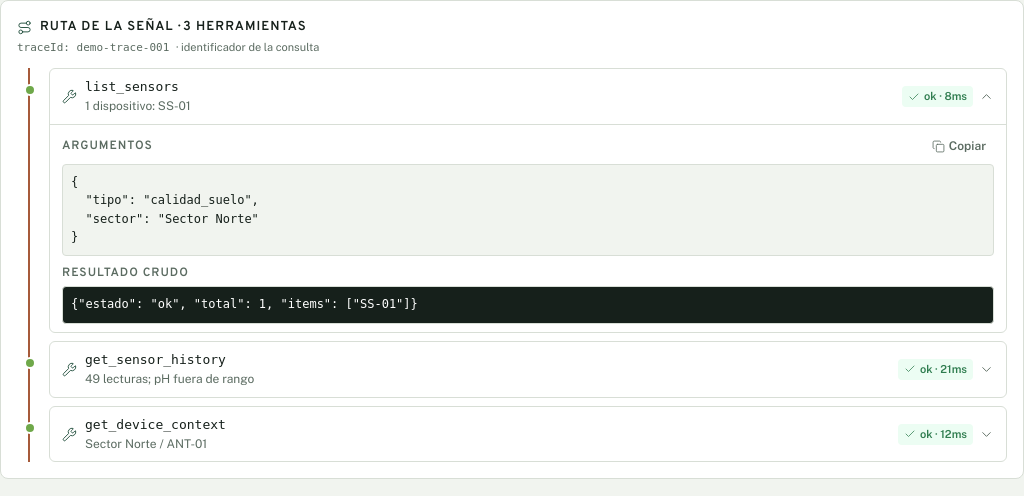
Test case: SignalPath › lista las 3 trazas sin mezclar turnos y expande el crudo
Check: the text "Ruta de la señal · 3 herramientas" is shown, box top-left (17, 19), bottom-right (307, 35)
Check: the text "list_sensors" is shown, box top-left (85, 79), bottom-right (179, 94)
Click the button "list_sensors 1 dispositivo: SS-01 ok · 8ms".
click(132, 87)  # box top-left (50, 69), bottom-right (1006, 124)
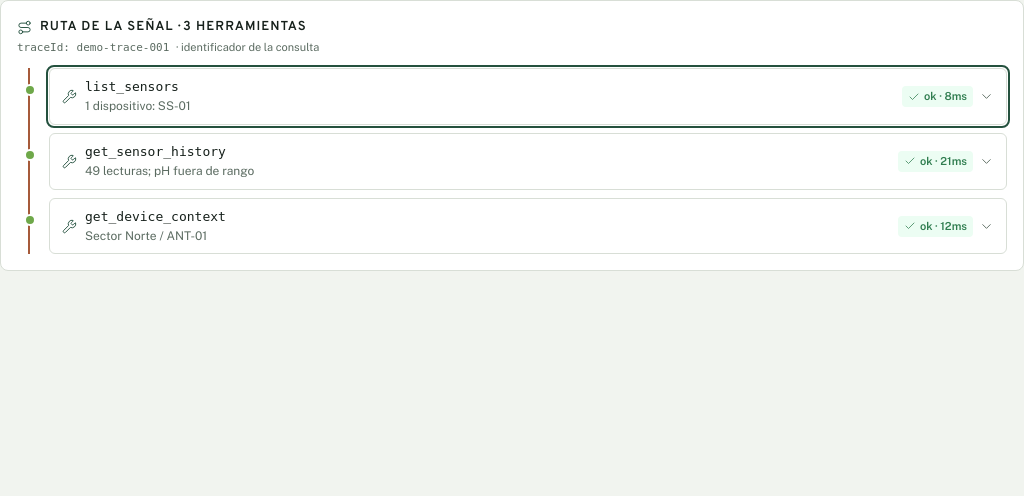
Check: the text "\"estado\": \"ok\"" is gone
